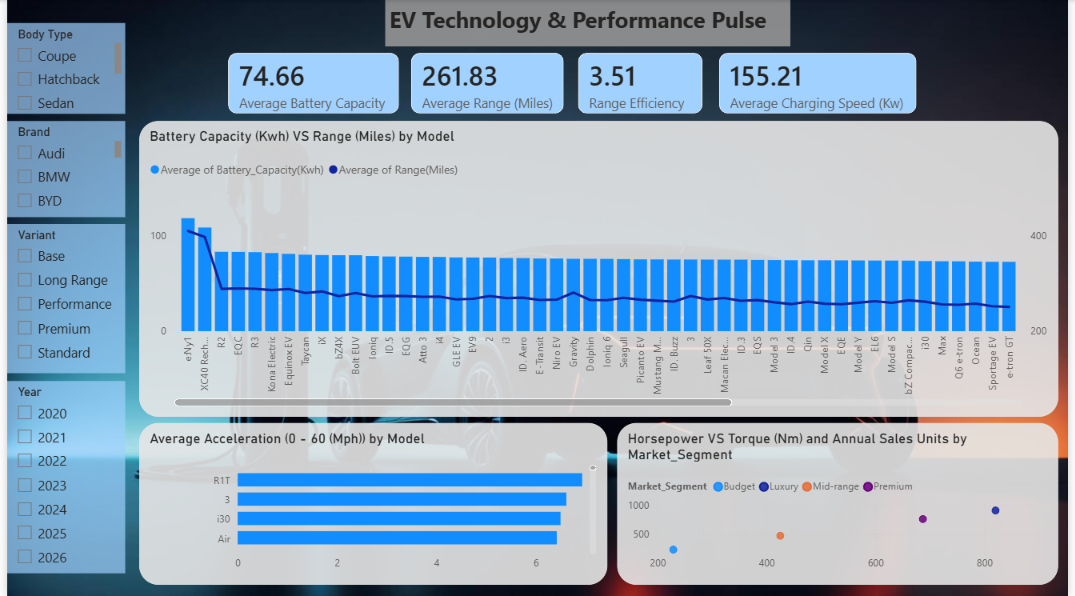

The page's visual inventory and layout, read from the dashboard file:
{"tool":"powerbi","page":{"name":"Features","canvas":[1280,720],"ordinal":1},"visuals":[{"type":"lineClusteredColumnComboChart","title":"Battery Capacity (Kwh) VS Range (Miles) by Model","fields":{"Y":["Avg(EV Industry Dynamics.Battery_Capacity(Kwh))"],"Y2":["Avg(EV Industry Dynamics.Range(Miles))"],"Category":["EV Industry Dynamics.Model"]},"box":[159.3,146,1108.7,357.1],"z":0},{"type":"clusteredBarChart","fields":{"Y":["Avg(EV Industry Dynamics.Acceleration_(0_60_Mph))"],"Category":["EV Industry Dynamics.Model"]},"box":[159.3,510.3,564.6,195.4],"z":1000},{"type":"scatterChart","title":"Horsepower VS Torque (Nm) and Annual Sales Units by Market_Segment","fields":{"Series":["EV Industry Dynamics.Market_Segment"],"Y":["Avg(EV Industry Dynamics.Horsepower)"],"X":["Avg(EV Industry Dynamics.Torque_Nm)"]},"box":[735.9,510.3,532,195.4],"z":2000},{"type":"slicer","fields":{"Values":["EV Industry Dynamics.Brand"]},"box":[0,146,142.4,115.8],"z":3000},{"type":"slicer","fields":{"Values":["EV Industry Dynamics.Year"]},"box":[0,459.7,142.4,231.6],"z":4000},{"type":"slicer","fields":{"Values":["EV Industry Dynamics.Body_Type"]},"box":[0,27.7,142.4,109.8],"z":5000},{"type":"cardVisual","fields":{"Data":["Avg(EV Industry Dynamics.Battery_Capacity(Kwh))"]},"box":[249.7,47.1,240.1,107.4],"z":6000},{"type":"cardVisual","fields":{"Data":["Avg(EV Industry Dynamics.Range(Miles))"]},"box":[470.5,47.1,218.4,107.4],"z":7000},{"type":"cardVisual","fields":{"Data":["EV Measures.Range Efficiency"]},"box":[672,47.1,184.6,107.4],"z":8000},{"type":"cardVisual","fields":{"Data":["Avg(EV Industry Dynamics.Charging_Speed(Kw))"]},"box":[842.1,47.1,272.7,107.4],"z":9000},{"type":"slicer","fields":{"Values":["EV Industry Dynamics.Variant"]},"box":[0,270.2,142.4,179.8],"z":10000},{"type":"textbox","box":[456.1,0,489.1,56.3],"z":11000}]}

Visuals, with their boxes in screenshot pixels (x1, y1, x2, y2), scaled from the page's 1280x720 canvas onto the 1075x596 screenshot:
"Battery Capacity (Kwh) VS Range (Miles) by Model" lineClusteredColumnComboChart: [134,121,1065,416]
clusteredBarChart - Avg(EV Industry Dynamics.Acceleration_(0_60_Mph)) x EV Industry Dynamics.Model: [134,422,608,584]
"Horsepower VS Torque (Nm) and Annual Sales Units by Market_Segment" scatterChart: [618,422,1065,584]
slicer - EV Industry Dynamics.Brand: [0,121,120,217]
slicer - EV Industry Dynamics.Year: [0,381,120,572]
slicer - EV Industry Dynamics.Body_Type: [0,23,120,114]
cardVisual - Avg(EV Industry Dynamics.Battery_Capacity(Kwh)): [210,39,411,128]
cardVisual - Avg(EV Industry Dynamics.Range(Miles)): [395,39,579,128]
cardVisual - EV Measures.Range Efficiency: [564,39,719,128]
cardVisual - Avg(EV Industry Dynamics.Charging_Speed(Kw)): [707,39,936,128]
slicer - EV Industry Dynamics.Variant: [0,224,120,372]
textbox: [383,0,794,47]
